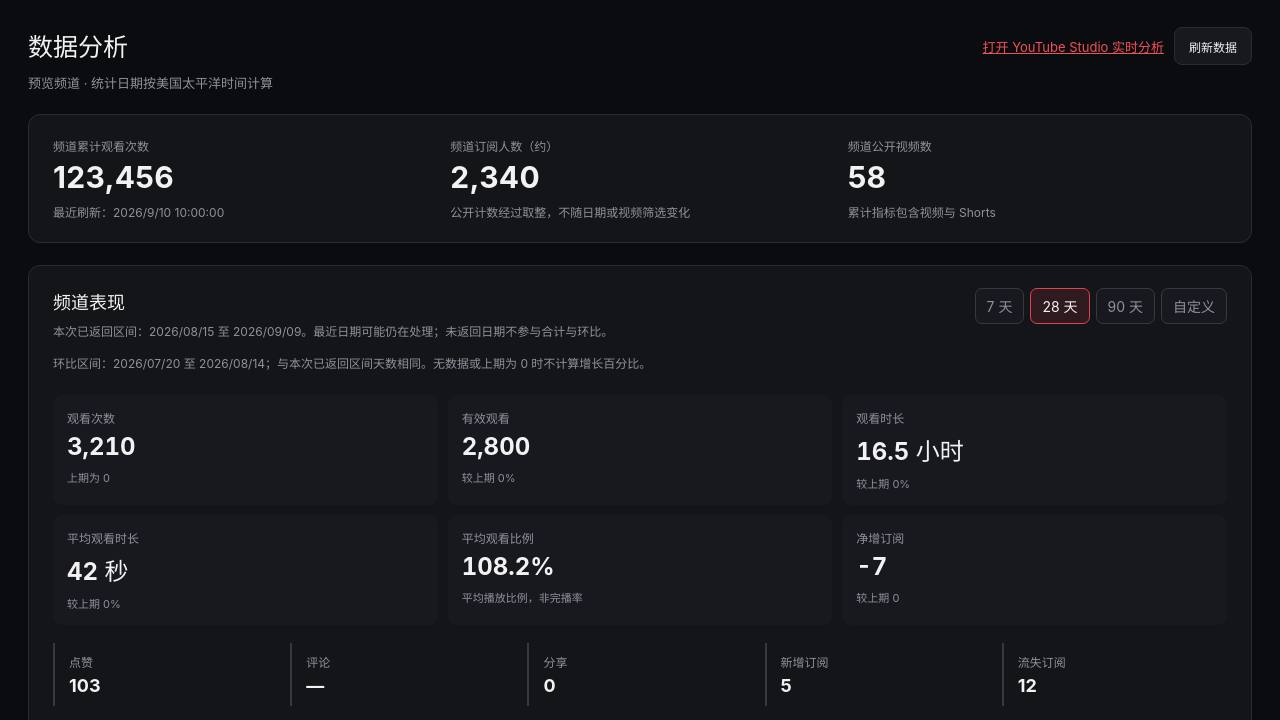
rejects custom ranges wider than 367 days before querying
Check: the text "123,456" is shown, box [53, 159, 174, 195]
Click the button "自定义". click: (1194, 306)
box: [1161, 288, 1227, 324]
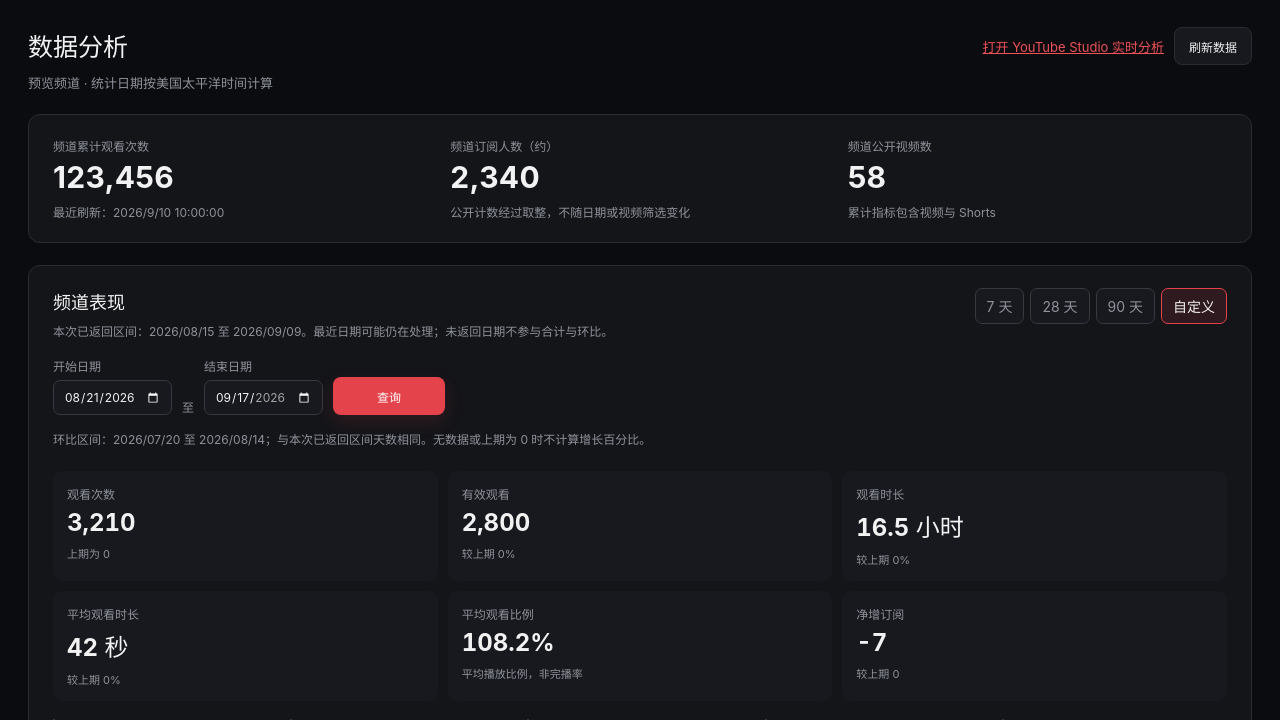
Type "2020-01-01" into the date field labelled "开始日期". click: (112, 398)
box: [53, 380, 172, 415]
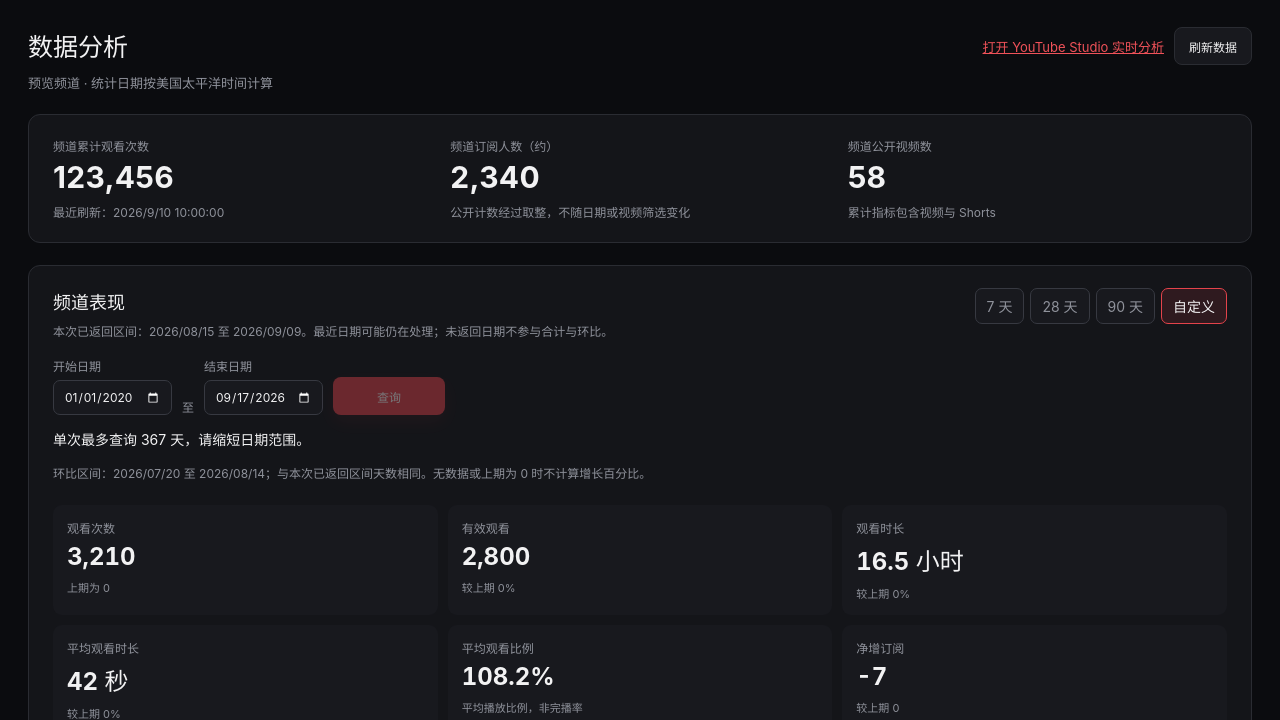
Check: the message shows "367 天", box [53, 431, 310, 448]
Check: the button "查询" is disabled, box [333, 377, 445, 415]
